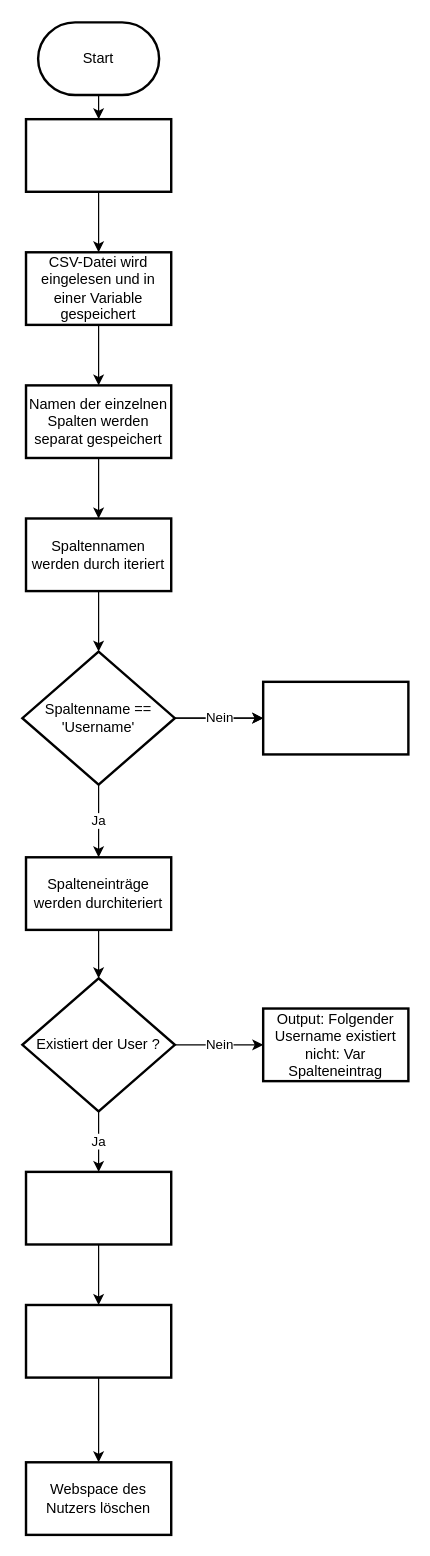
Image size: 430x1556. Some labels were removed from this diagram. The shapes that lost their labels are listed below. From the top down, each one's centre as x and y in pixels, then its label:
At pixel 98 154: "Input: Pfad zur CSV-Datei".
At pixel 335 717: "Nächste Spalte".
At pixel 98 1207: "Nutzer lokal löschen".
At pixel 98 1340: "Datenbank des Nutzers löschen".
